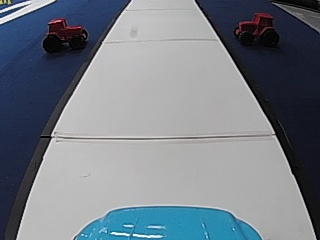tractor: (41, 15, 89, 53), (231, 10, 279, 47)
